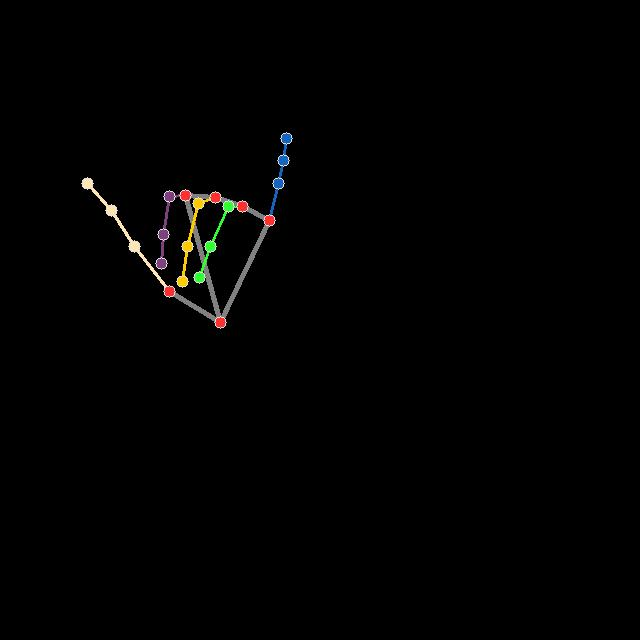skr: (79, 130, 294, 330)
